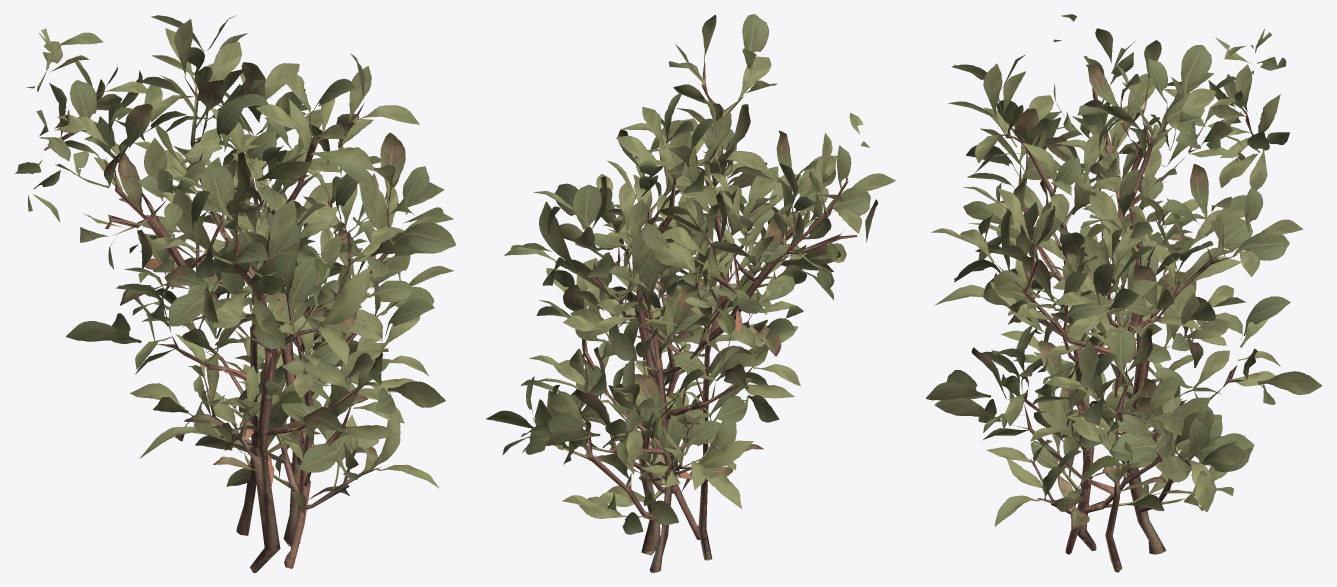
File: shrub-packed.glb
3 views of the same model, side by side, from view 1: azimuth 30°, elevation 25°; view 2: azimuth 150°, elevation 25°; view 3: azimuth 270°, elevation 25° (orthographic). The views are drawn at different scales.
Visible parts, largest first — view 1: broadleaf-shrub; view 2: broadleaf-shrub; view 3: broadleaf-shrub.
Boxes of the visible parts, bbox=[...] form: broadleaf-shrub: bbox=[15, 15, 455, 572]; broadleaf-shrub: bbox=[486, 14, 895, 572]; broadleaf-shrub: bbox=[926, 14, 1321, 572].
Bounding box in the file's own units: 0.3658 × 0.5042 × 0.358.
1 material, 1 textured.
